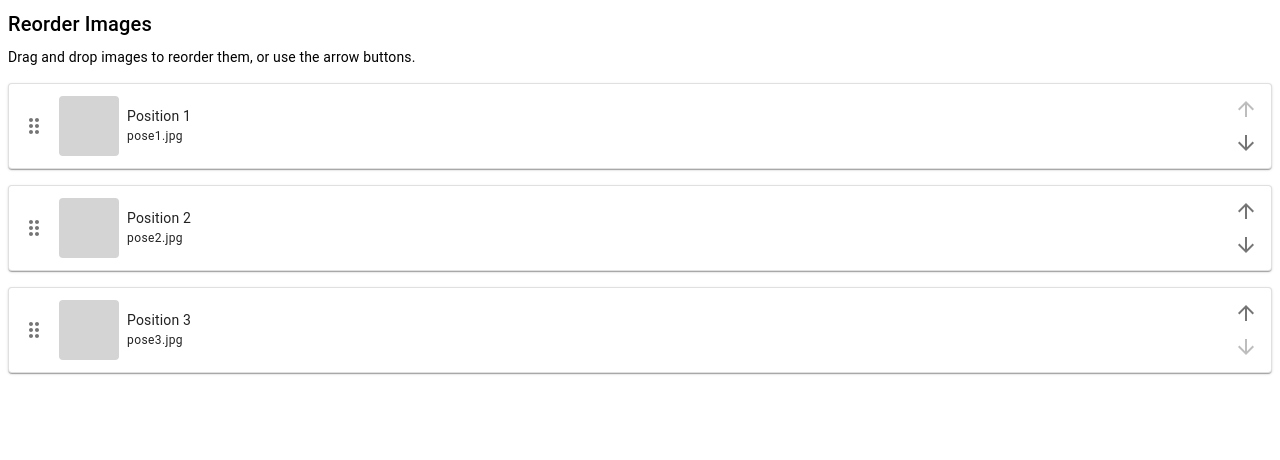
it: ImageReorder › Save and Cancel Actions › should handle save errors gracefully
# Make a change and save
Click the 2nd button named "Move up": (1246, 211) left=1229, top=194, right=1263, bottom=228
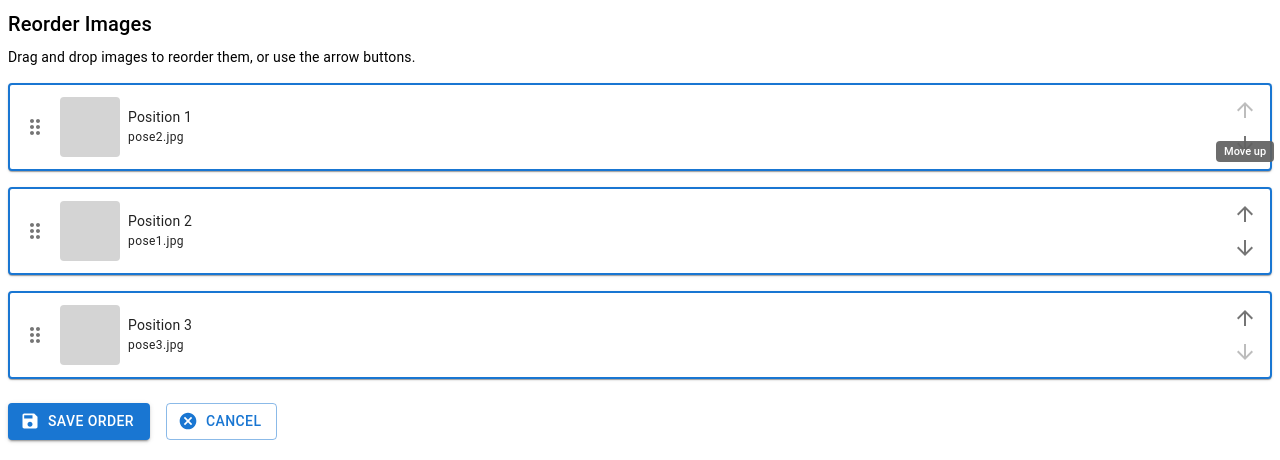
Click the button "Save Order": (79, 421) left=8, top=403, right=150, bottom=440
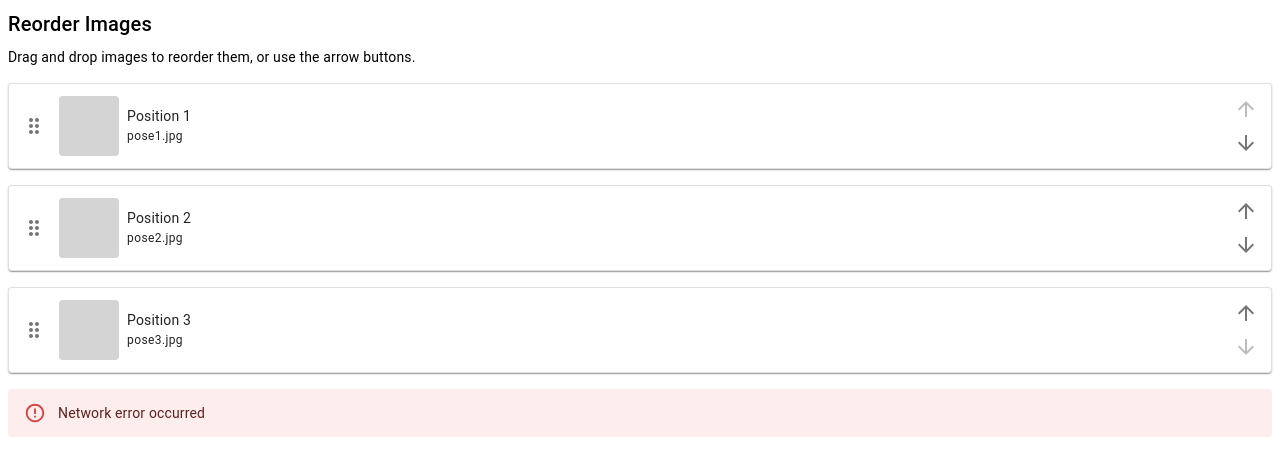
Result: the text "Network error occurred" is shown at left=58, top=405, right=205, bottom=421
Result: the button "Save Order" is gone
